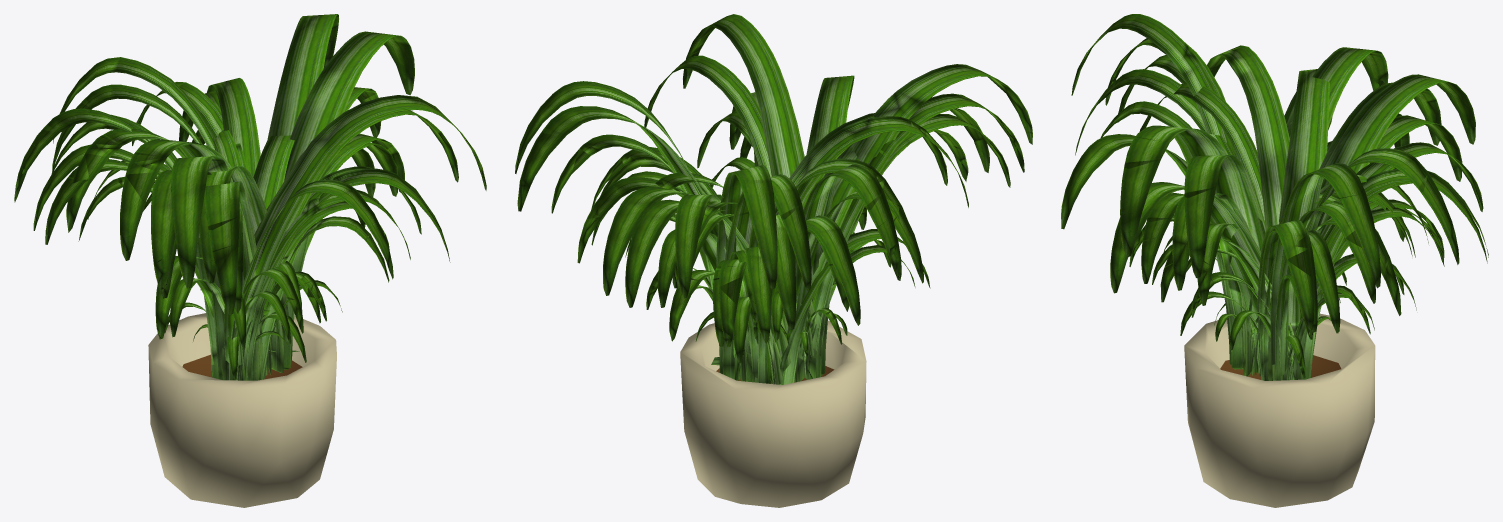
File: plantpot.fbx
3 views of the same model, side by side, from view 1: azimuth 30°, elevation 25°; view 2: azimuth 150°, elevation 25°; view 3: azimuth 270°, elevation 25° (orthographic). The views are drawn at different scales.
Visible parts, largest first — view 1: Cylinder; view 2: Cylinder; view 3: Cylinder.
Boxes of the visible parts, left/top/right/bottom form: Cylinder: left=14, top=14, right=486, bottom=507; Cylinder: left=515, top=14, right=1032, bottom=507; Cylinder: left=1061, top=14, right=1488, bottom=507.
Bounding box in the file's own units: 468 × 444 × 438.
